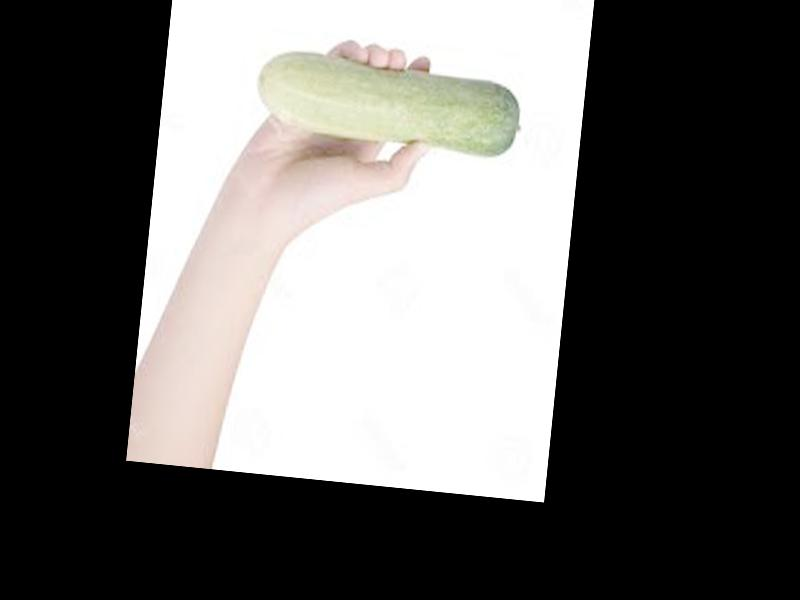Cucumber: (250, 50, 527, 165)
